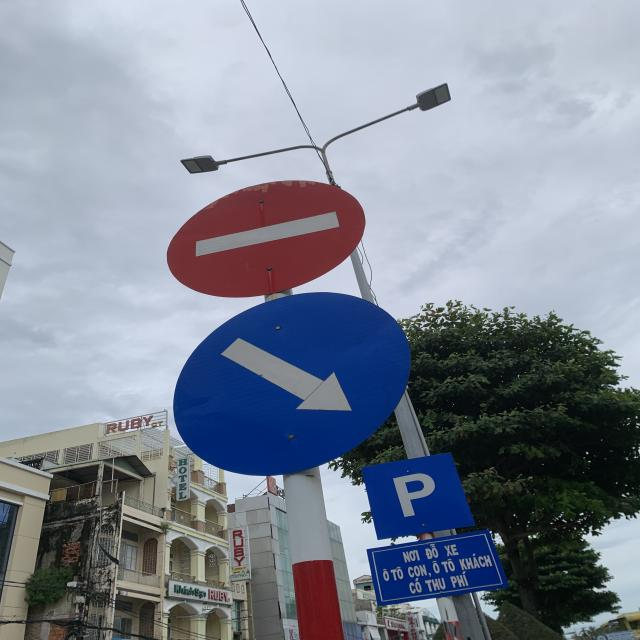Cam_Di_Nguoc_Chieu: (170, 178, 366, 297)
Chi_Huong_Di_Phai: (174, 294, 411, 473)
